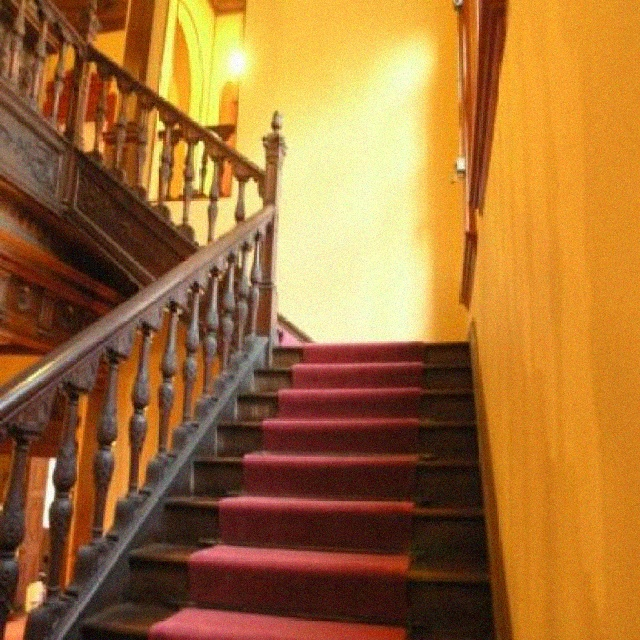stair: (59, 152, 510, 638)
